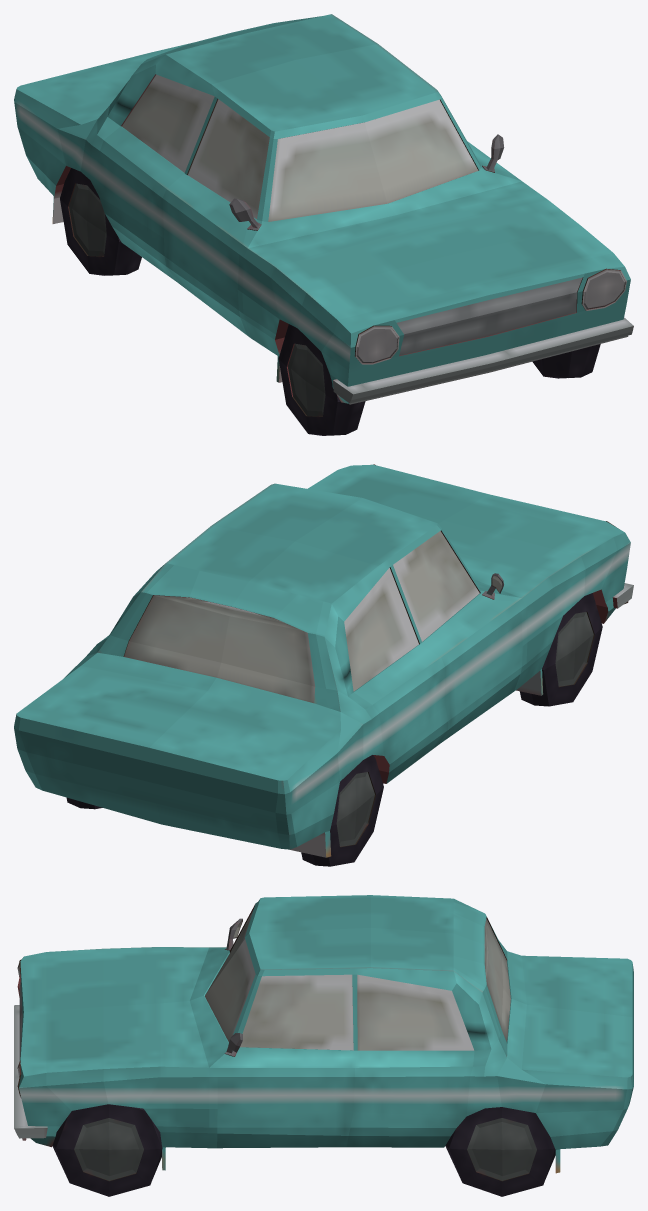
File: Car4.fbx
3 renders of one model, top to bottom at view 1: azimuth 30°, elevation 25°; view 2: azimuth 150°, elevation 25°; view 3: azimuth 270°, elevation 25°, orthographic. The views are drawn at different scales.
Parts seen in each view (by area): view 1: Car1.003; view 2: Car1.003; view 3: Car1.003.
Boxes of the visible parts, left/top/right/bottom form: Car1.003: left=14, top=14, right=633, bottom=435; Car1.003: left=14, top=464, right=633, bottom=866; Car1.003: left=14, top=895, right=633, bottom=1196.
Bounding box in the file's own units: 206 × 166 × 430.
1 material, 1 textured.
